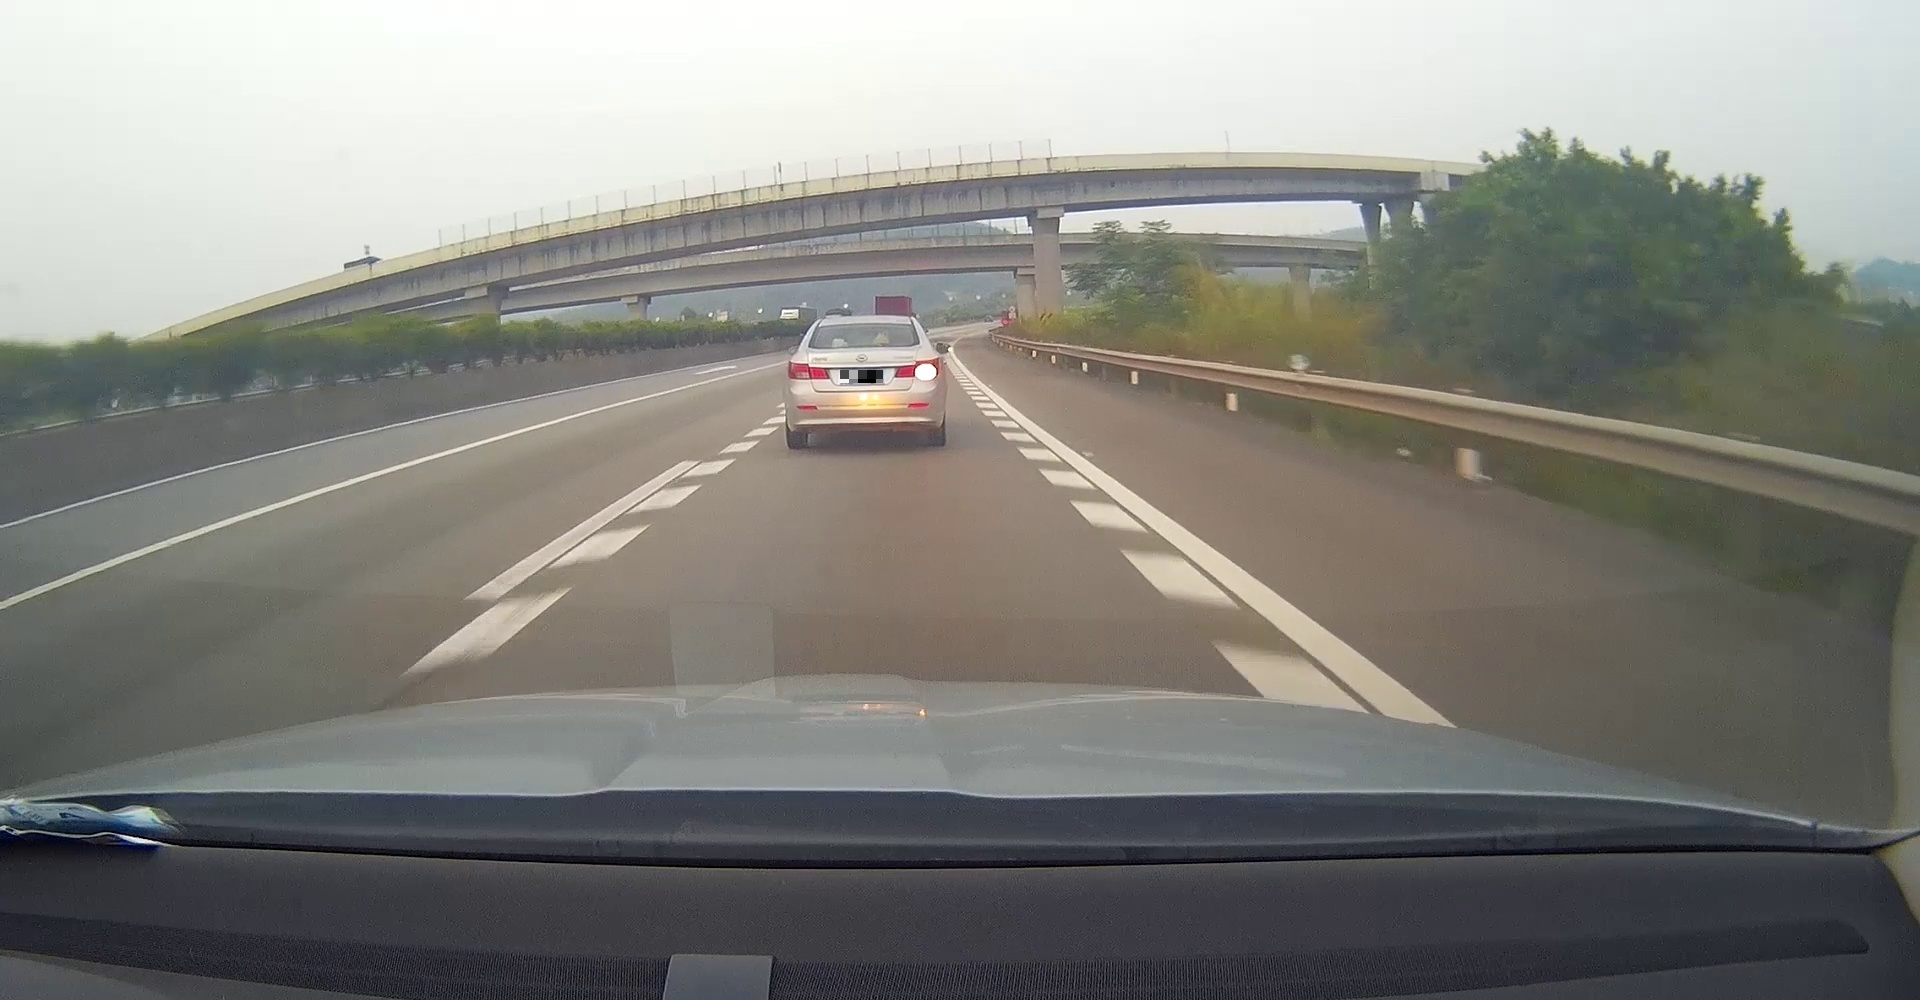L_light: (787, 360, 830, 379)
R_light: (894, 358, 938, 379)
T_light: (855, 324, 875, 327)
day-right: (782, 315, 942, 451)
plate_1: (841, 371, 883, 383)
